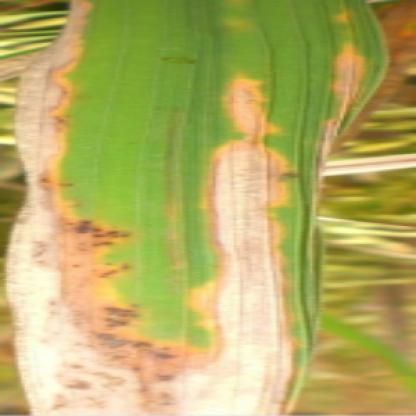Blight: (5, 1, 301, 416)
